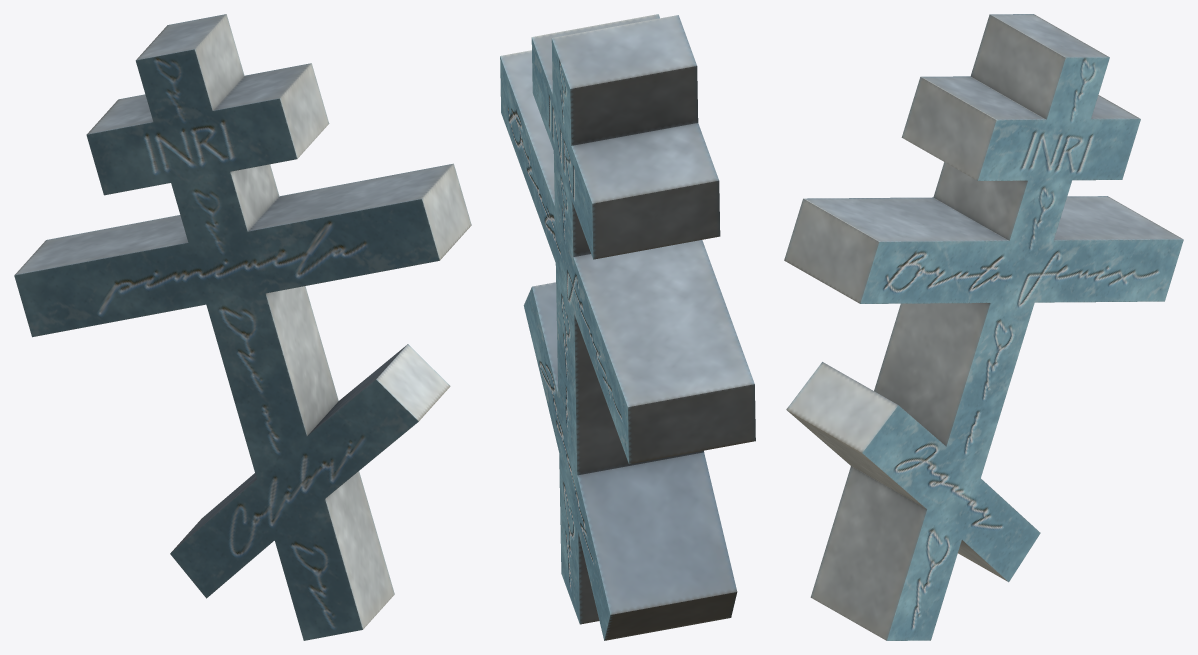
3 views of the same model, side by side, from view 1: azimuth 30°, elevation 25°; view 2: azimuth 150°, elevation 25°; view 3: azimuth 270°, elevation 25° (orthographic). The views are drawn at different scales.
Visible parts, largest first — view 1: Cruz_Orto_Cube.011; view 2: Cruz_Orto_Cube.011; view 3: Cruz_Orto_Cube.011.
Part boxes in pixels (bbox=[...]): Cruz_Orto_Cube.011: bbox=[14, 14, 471, 640]; Cruz_Orto_Cube.011: bbox=[500, 14, 755, 640]; Cruz_Orto_Cube.011: bbox=[784, 14, 1183, 640].
Bounding box in the file's own units: 1.68 × 2.69 × 1.71.
